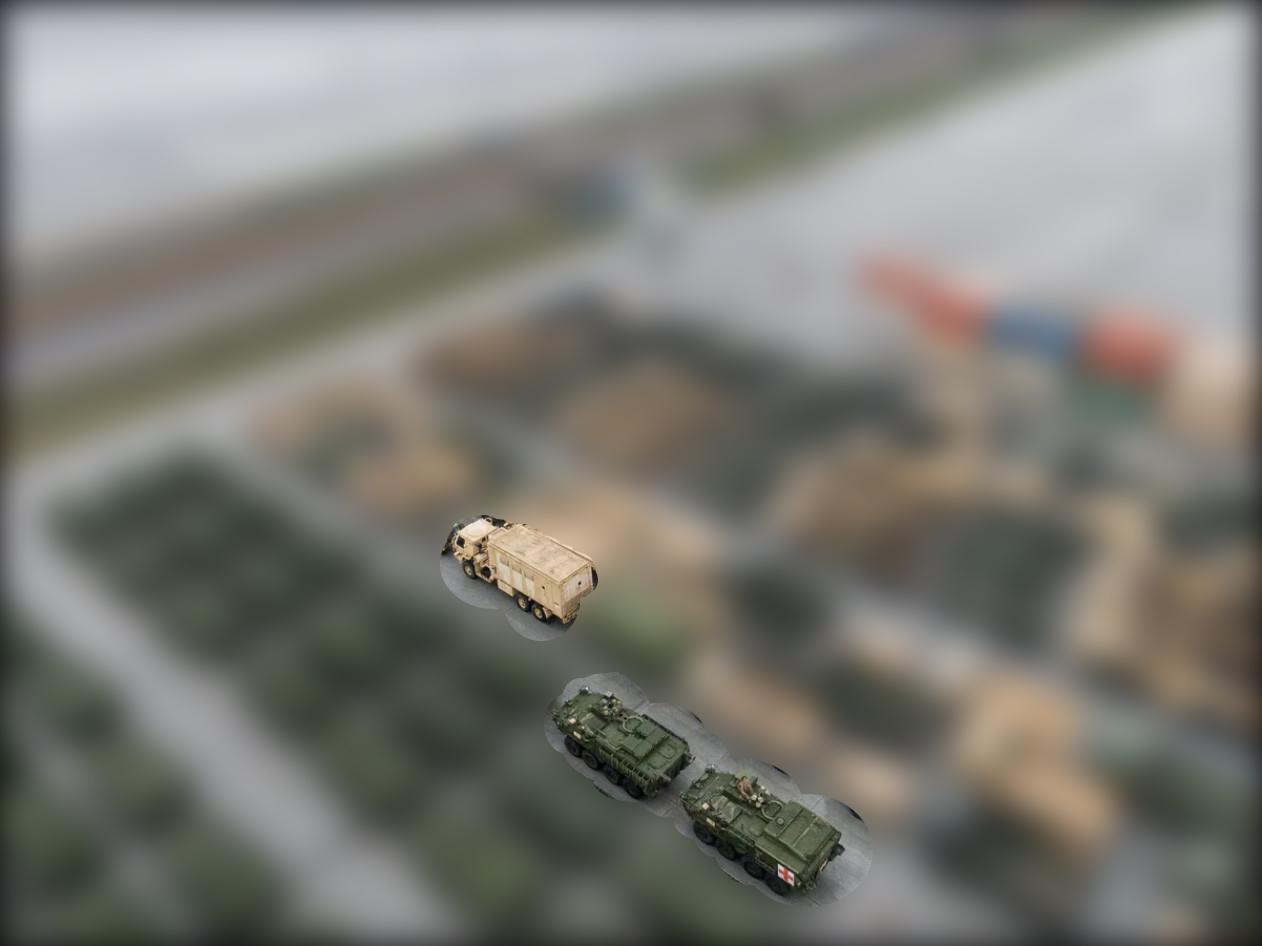armored_car: (688, 756, 856, 910), (542, 680, 691, 805)
truck: (443, 504, 606, 632)
